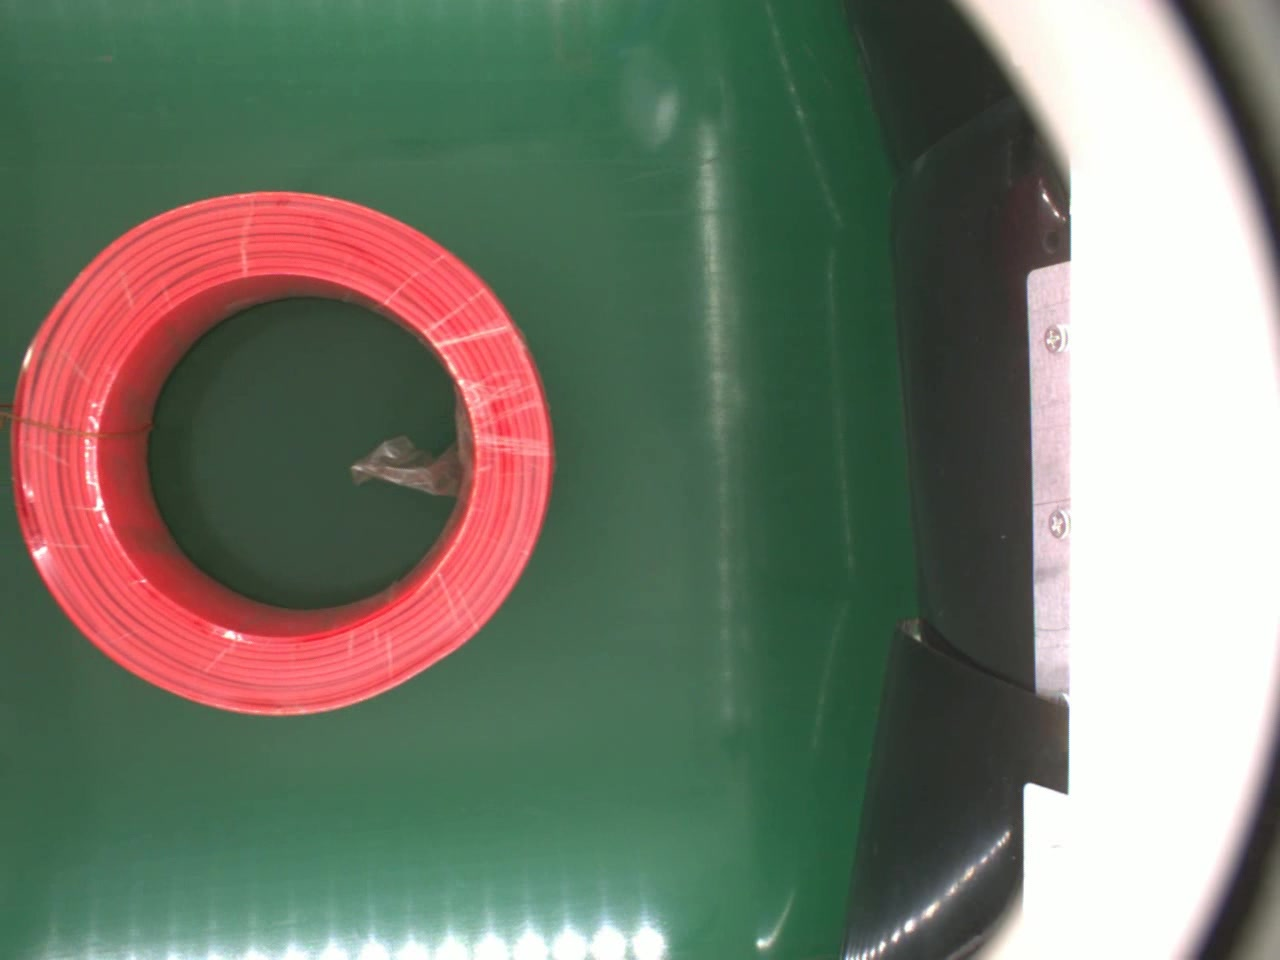red: (1, 187, 551, 715)
